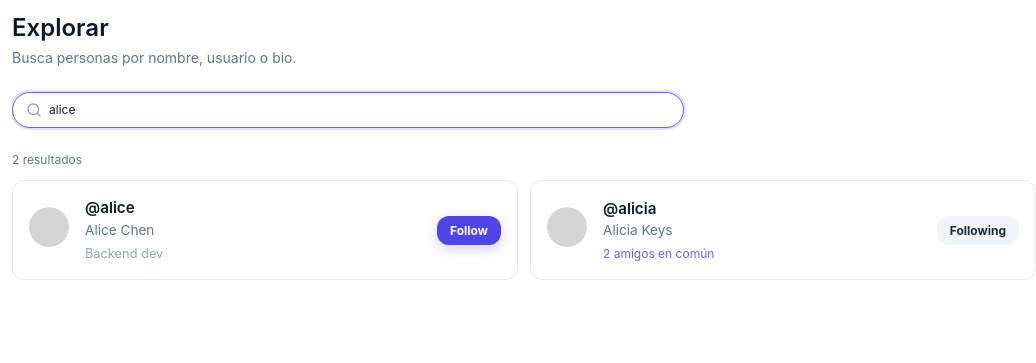
Test: ExplorePage › toggles isFollowing optimistically when the follow button is clicked
This screenshot has width=1036, height=363.
Click the button with test id "user-search-follow-btn-usr_alice": click(469, 230) [437,216,501,245]
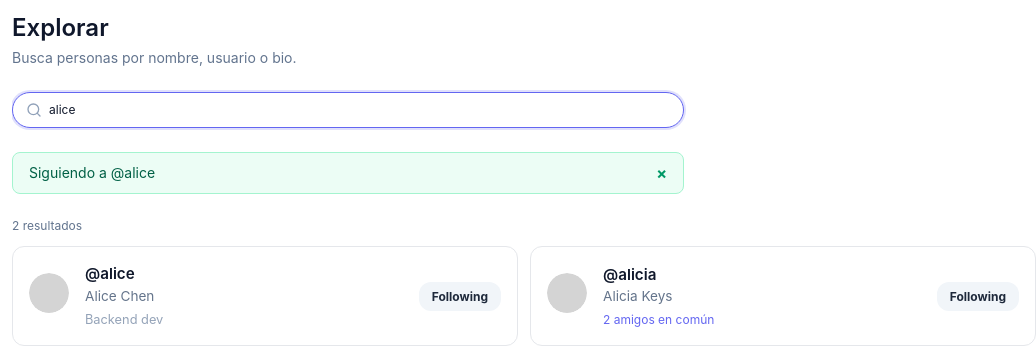
Now the button with test id "user-search-follow-btn-usr_alice" reads "Following", box [419,282,501,311]
Now the message with test id "explore-follow-feedback-banner" shows "Siguiendo a @alice", box [29,164,155,181]
